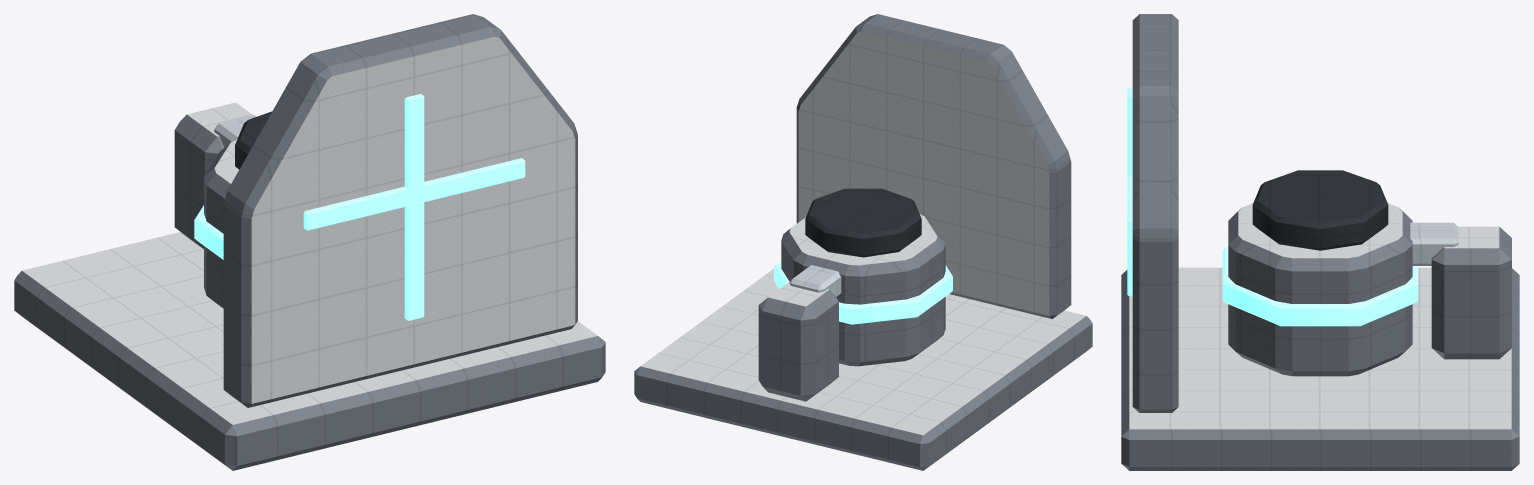
Rendered from R4X_DefensiveTurretDeployer_LOD1.glb.
3 renders of one model, left to right at view 1: azimuth 30°, elevation 25°; view 2: azimuth 150°, elevation 25°; view 3: azimuth 270°, elevation 25°, orthographic. The views are drawn at different scales.
Visible parts, largest first — view 1: R4X_DefensiveTurretDeployer_LOD1; view 2: R4X_DefensiveTurretDeployer_LOD1; view 3: R4X_DefensiveTurretDeployer_LOD1.
Part boxes in pixels (bbox=[...]): R4X_DefensiveTurretDeployer_LOD1: bbox=[14, 14, 605, 470]; R4X_DefensiveTurretDeployer_LOD1: bbox=[634, 14, 1092, 470]; R4X_DefensiveTurretDeployer_LOD1: bbox=[1121, 14, 1519, 470].
Size of the model in its own units: 0.52 by 0.49 by 0.52.
5 materials, 4 textured.
